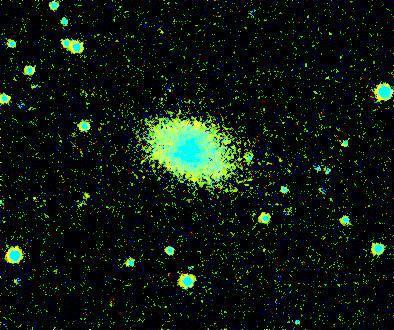star: (72, 181, 102, 211)
